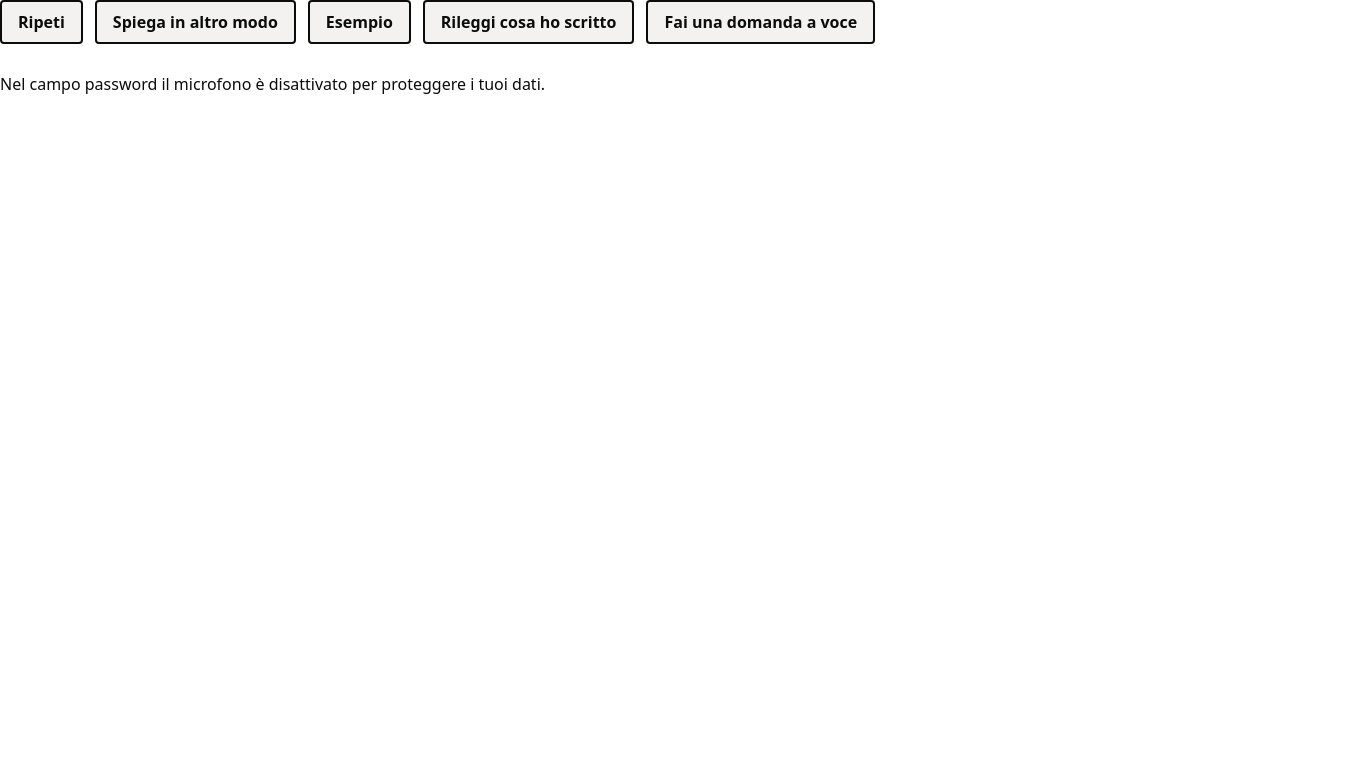
AssistPanelComponent › Rileggi on the password › "No" returns to the field in silence
Click the button "Rileggi cosa ho scritto".
click(529, 22)  # box x1=423 y1=0 x2=634 y2=44
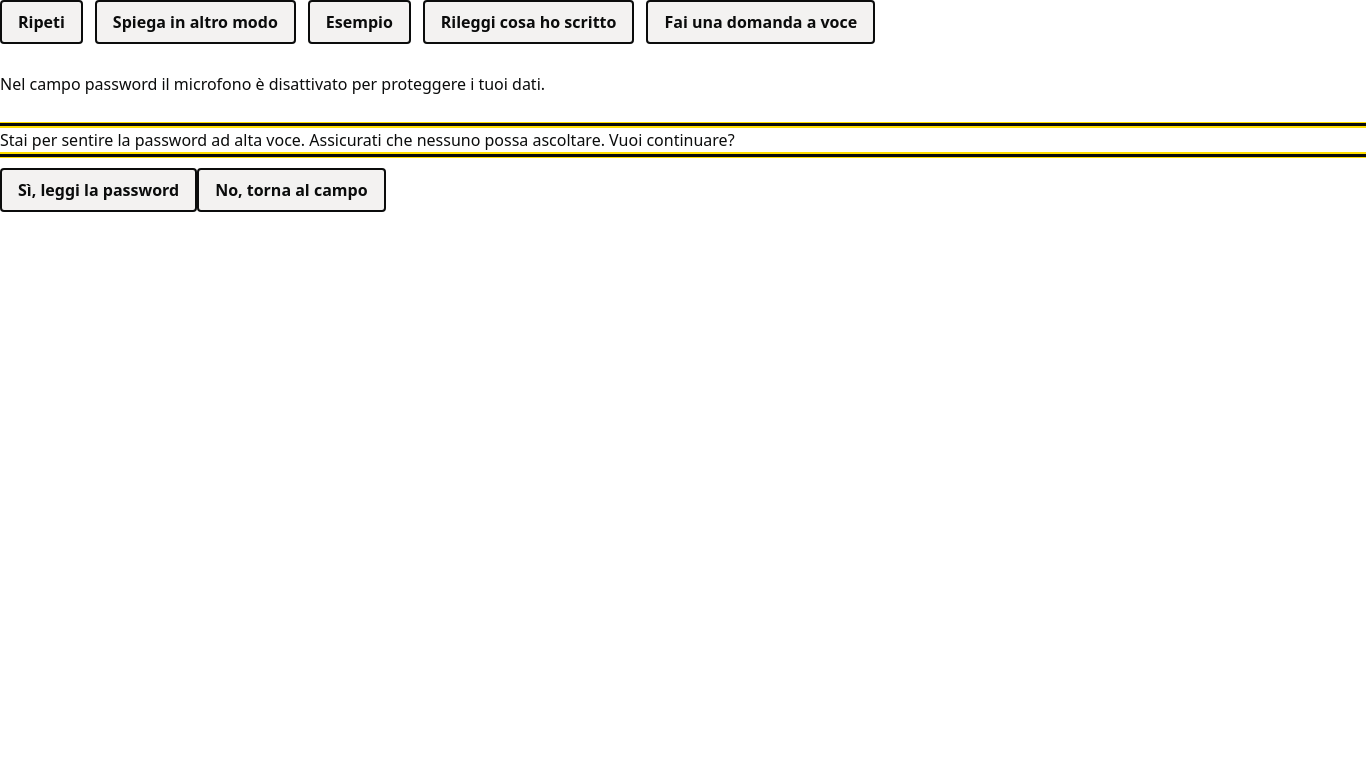
Click the button "No, torna al campo".
click(291, 190)  # box x1=197 y1=168 x2=386 y2=212
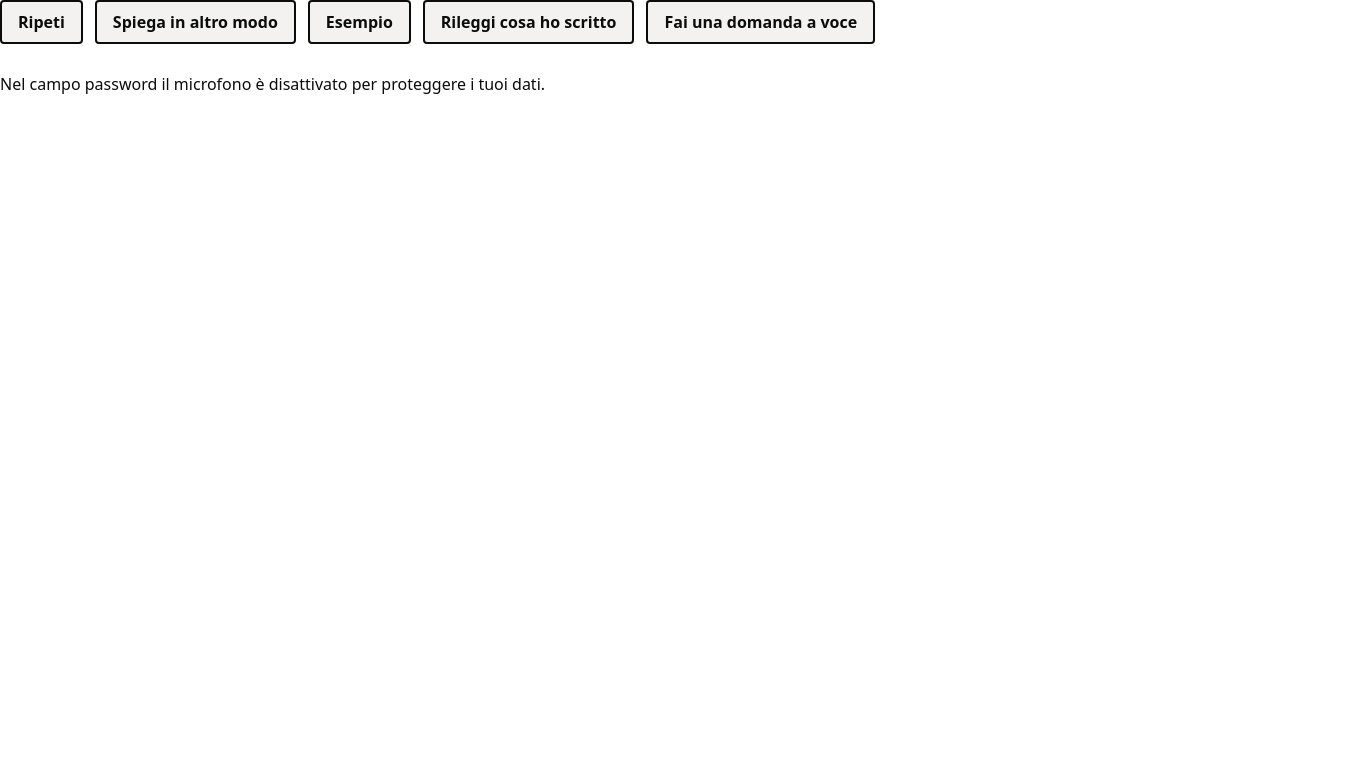
Expected: the dialog is gone
